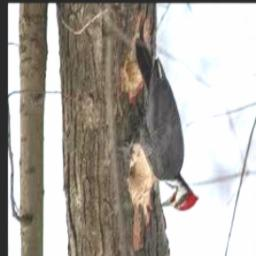Woodpecker: (124, 17, 199, 212)
